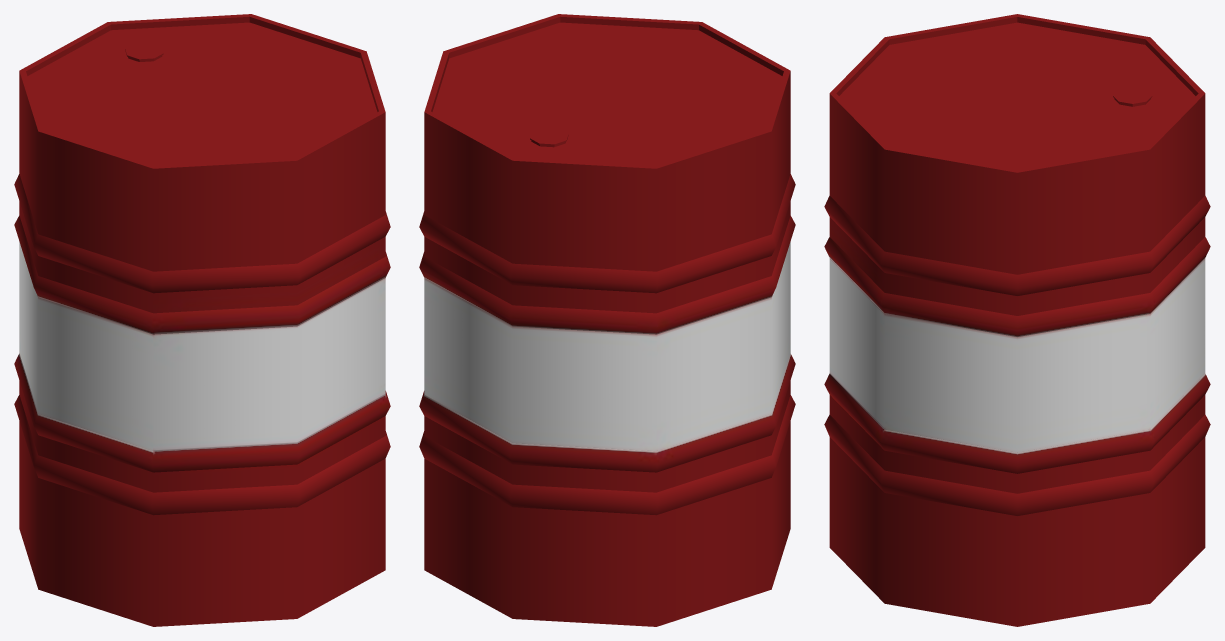
File: Chemical Drum.fbx
The picture shows the model from 3 angles, left to right: view 1: azimuth 30°, elevation 25°; view 2: azimuth 150°, elevation 25°; view 3: azimuth 270°, elevation 25°; orthographic projection.
Visible parts, largest first — view 1: Chemical Drum; view 2: Chemical Drum; view 3: Chemical Drum.
Part boxes in pixels (x1=…): Chemical Drum: x1=14, y1=14, x2=390, y2=626; Chemical Drum: x1=419, y1=14, x2=795, y2=626; Chemical Drum: x1=824, y1=14, x2=1210, y2=626.
Size of the model in its own units: 30.84 by 30.84 by 40.
Materials: 1 (1 with a texture image).
